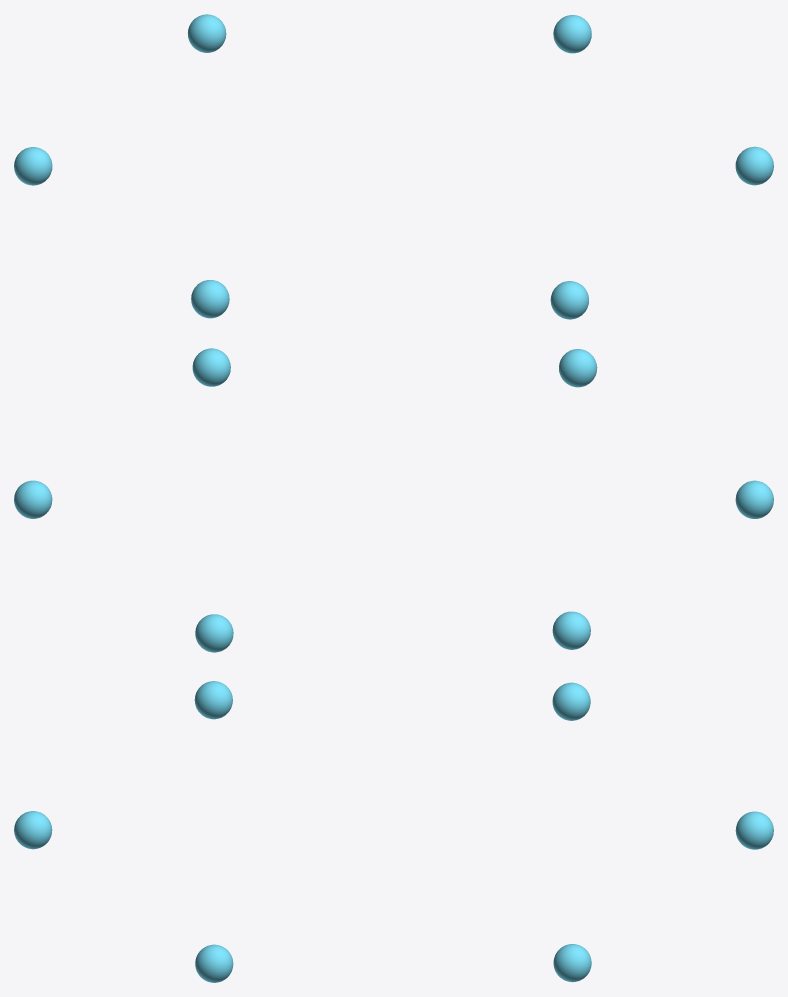
3 renders of one model, top to bottom at view 1: azimuth 30°, elevation 25°; view 2: azimuth 150°, elevation 25°; view 3: azimuth 270°, elevation 25°, orthographic.
Visible parts, largest first — view 1: Sphere049; view 2: Sphere049; view 3: Sphere049.
Boxes of the visible parts, bbox=[...] form: Sphere049: bbox=[14, 14, 773, 319]; Sphere049: bbox=[14, 348, 773, 652]; Sphere049: bbox=[14, 681, 773, 982].
Bounding box in the file's own units: 142 × 8.22 × 163.
